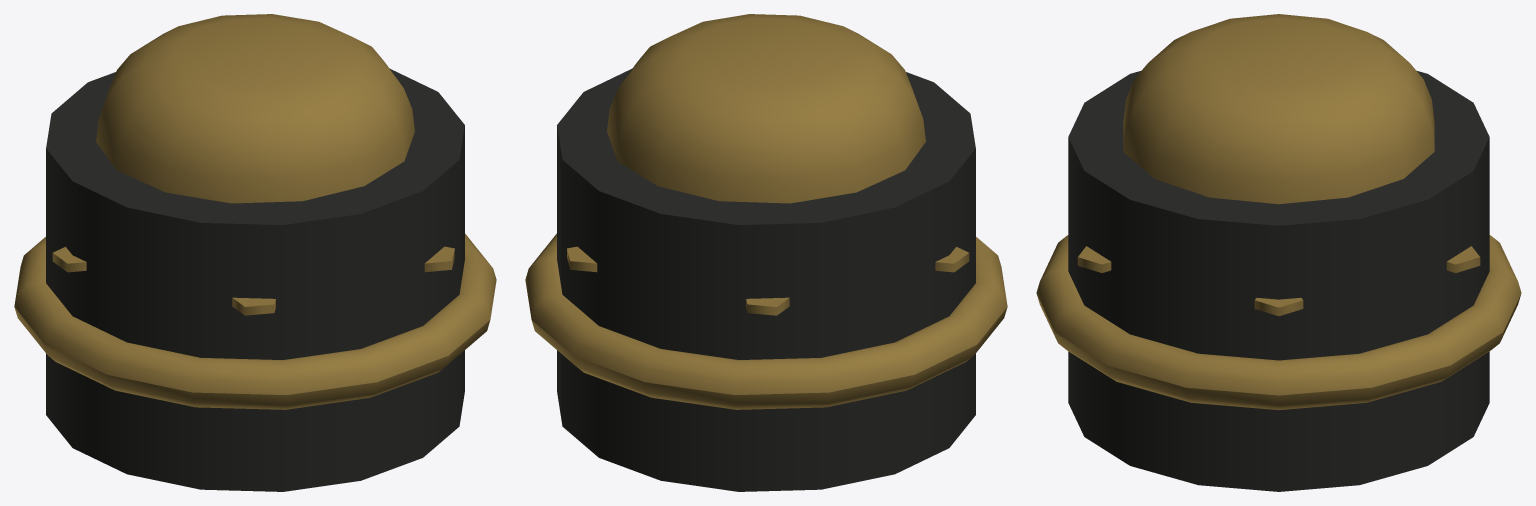
The model's file is hero_armor.obj.
The picture shows the model from 3 angles, left to right: view 1: azimuth 30°, elevation 25°; view 2: azimuth 150°, elevation 25°; view 3: azimuth 270°, elevation 25°; orthographic projection.
Visible parts, largest first — view 1: hero_armor; view 2: hero_armor; view 3: hero_armor.
Boxes of the visible parts, x1,y1,x2,y2 form: hero_armor: (14, 14, 496, 491); hero_armor: (525, 14, 1007, 491); hero_armor: (1036, 14, 1521, 491).
Size of the model in its own units: 1.52 by 1.22 by 1.52.
